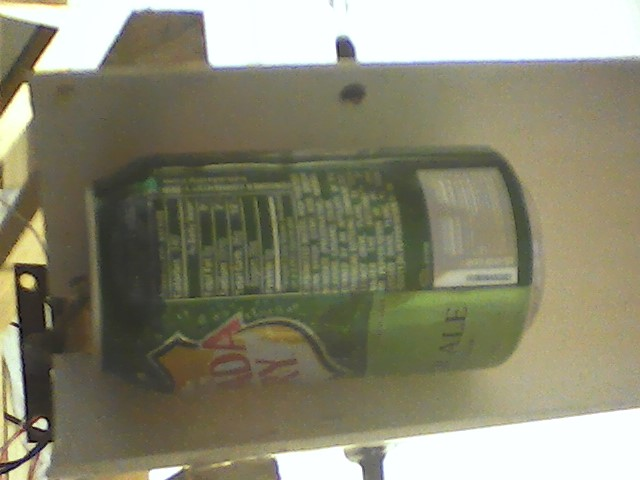lata: (81, 140, 553, 398)
